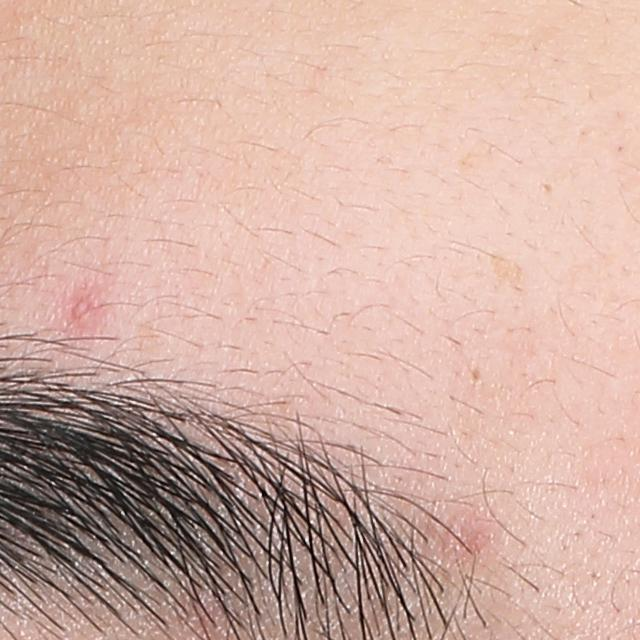papule: (68, 293, 98, 329)
